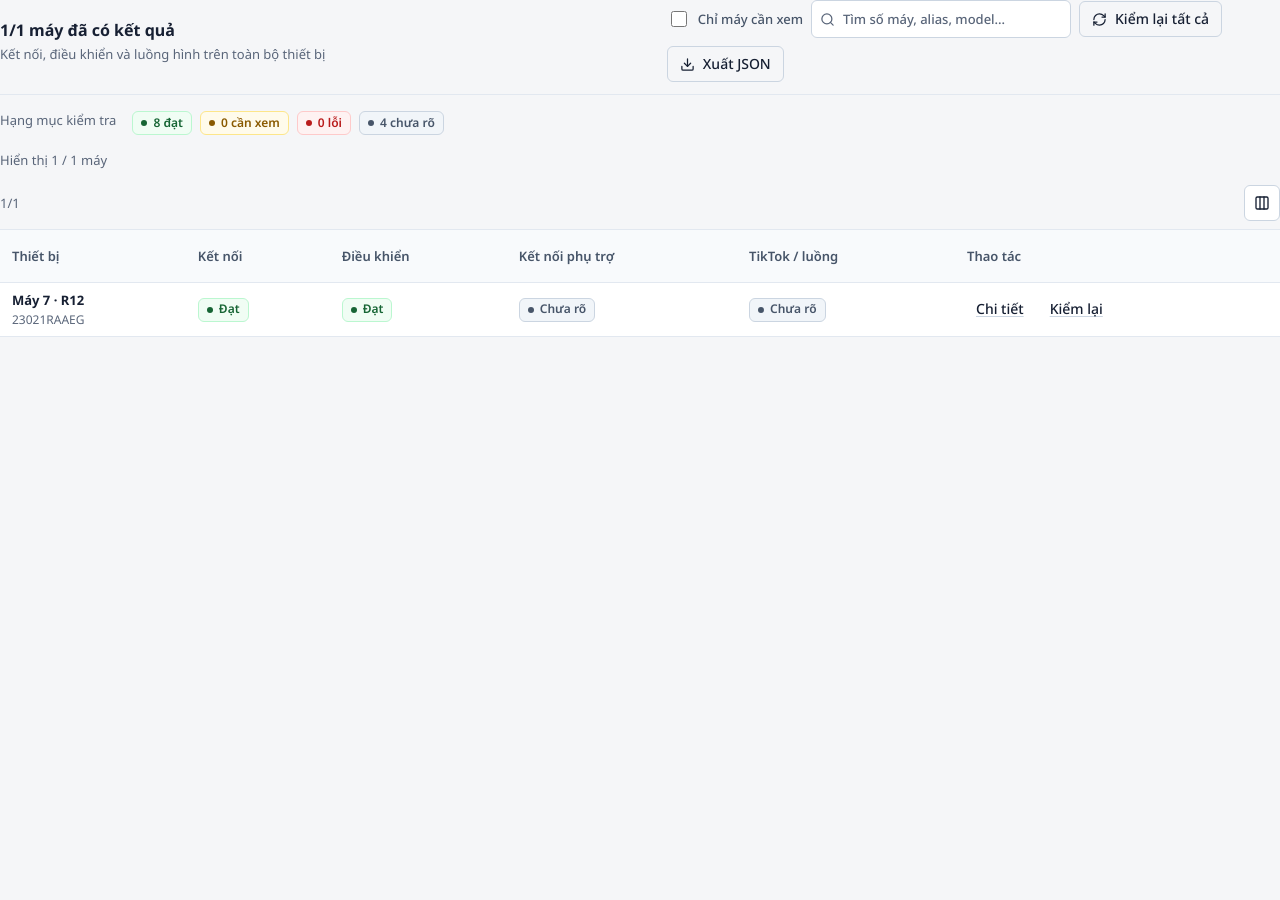
Test: FleetDiagnosticsPage › shows an explicit unknown label, never a negative answer, when a probe was not answered
expect the row named "Máy 7 · R12 · 23021RAAEG" is shown: met, box 0,282 -> 1279,336
Click the button with aria-label "Xem chi tiết Máy 7 · R12 · 23021RAAEG".
click(1000, 310)  # box 967,292 -> 1033,328
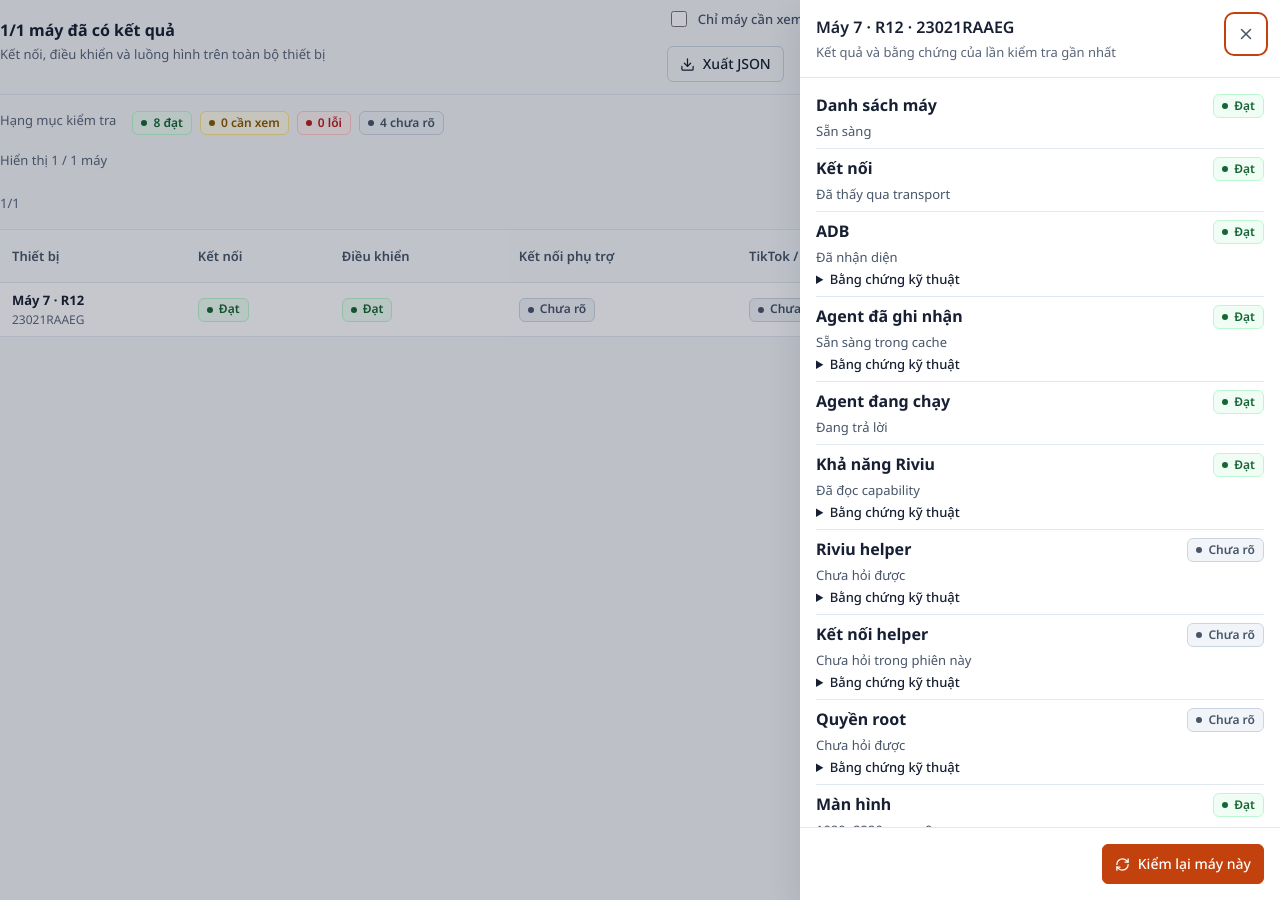
expect the text "Chưa hỏi được" below "Riviu helper" is shown: met, box 816,566 -> 905,584
